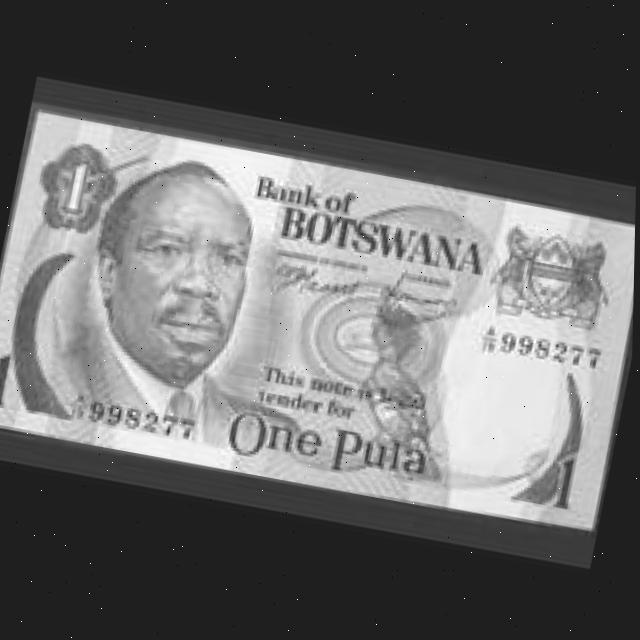banknote: (0, 111, 638, 534)
